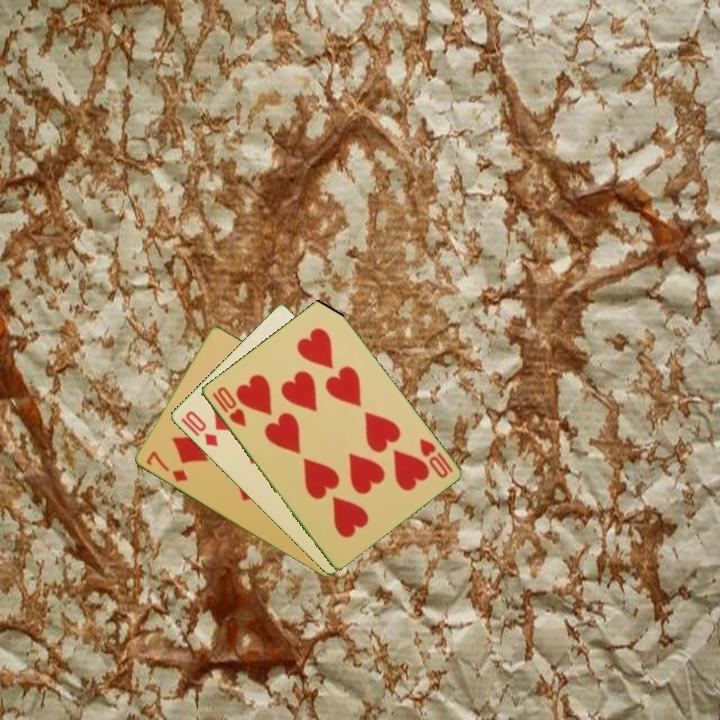10d: (181, 407, 221, 450)
10h: (208, 383, 249, 430), (415, 434, 456, 481)
7d: (142, 447, 190, 485)
